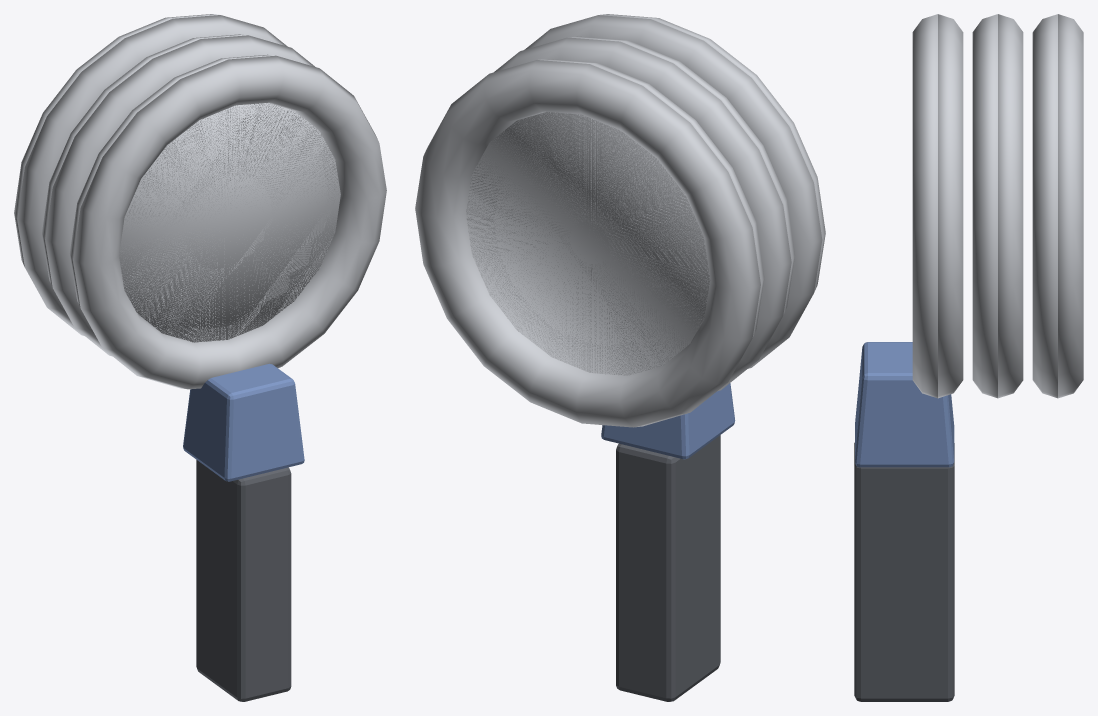
File: weapon_whip_live_coiled.glb
3 renders of one model, left to right at view 1: azimuth 30°, elevation 25°; view 2: azimuth 150°, elevation 25°; view 3: azimuth 270°, elevation 25°, orthographic. The views are drawn at different scales.
Visible parts, largest first — view 1: coil, grip, coil.001, coil.002, emitter; view 2: coil.002, grip, coil, coil.001, emitter; view 3: grip, coil.002, coil.001, coil, emitter.
Part boxes in pixels (<box>): coil: <box>69,54,386,389</box>; grip: <box>196,460,291,701</box>; coil.001: <box>42,34,314,356</box>; coil.002: <box>14,14,287,335</box>; emitter: <box>183,363,304,481</box>; coil.002: <box>415,59,764,427</box>; grip: <box>616,435,720,701</box>; coil: <box>524,14,825,368</box>; coil.001: <box>494,36,794,391</box>; emitter: <box>601,383,735,459</box>; grip: <box>854,442,954,701</box>; coil.002: <box>1032,14,1083,398</box>; coil.001: <box>972,14,1023,398</box>; coil: <box>912,14,963,398</box>; emitter: <box>855,342,954,467</box>.
Size of the model in its own units: 1.97 by 3.71 by 1.17.
